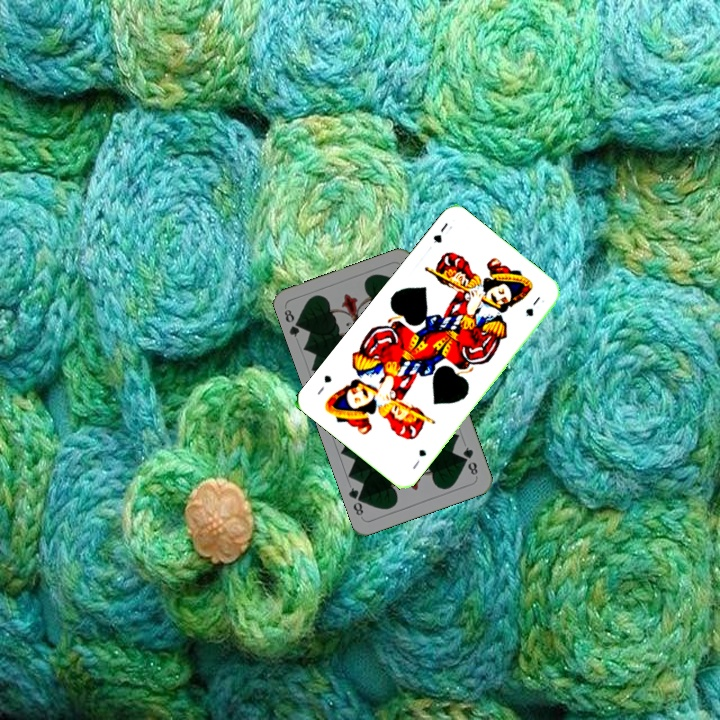G8: (280, 305, 306, 340), (459, 443, 481, 478)
GU: (429, 218, 455, 246), (408, 445, 429, 472)
